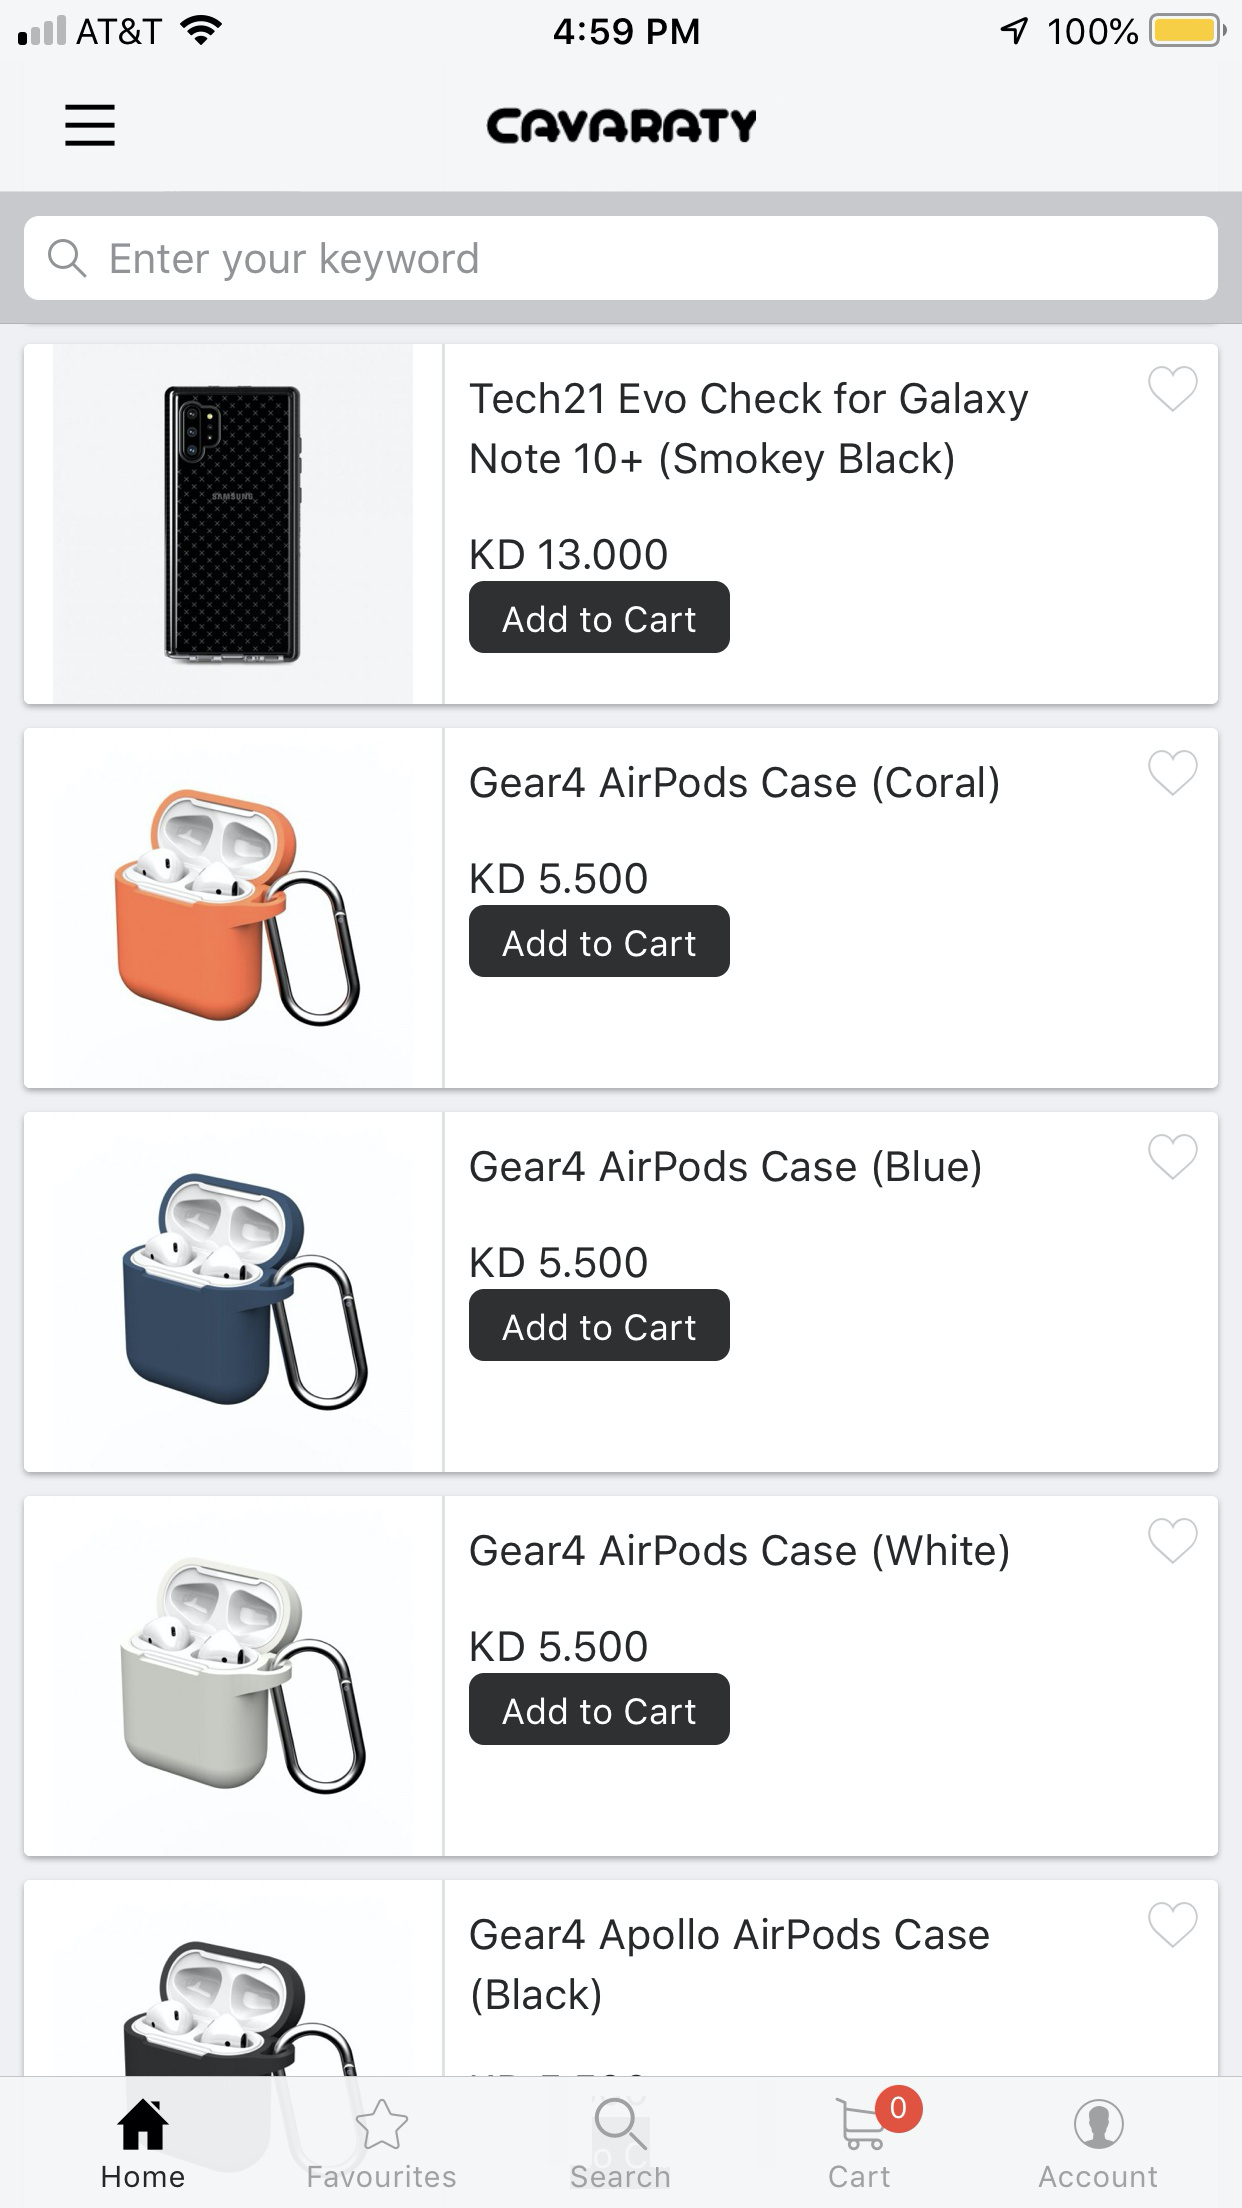EditText: (24, 217, 1219, 300)
Icon: (836, 2085, 924, 2150), (594, 2097, 648, 2150), (117, 2097, 170, 2150), (356, 2097, 409, 2149), (1074, 2097, 1124, 2149), (1146, 751, 1198, 798), (1146, 1134, 1198, 1181), (1146, 1518, 1198, 1565), (1148, 365, 1198, 412), (1148, 1902, 1198, 1949), (65, 105, 117, 149), (49, 240, 88, 279)
Image: (118, 1556, 369, 1796), (112, 789, 362, 1028), (121, 1172, 369, 1412), (164, 385, 303, 666), (123, 1941, 358, 2076)
Text: (470, 382, 1030, 482), (470, 1918, 990, 2017), (470, 764, 999, 805), (470, 1533, 1008, 1573), (470, 1149, 981, 1189), (112, 243, 479, 282), (485, 108, 757, 146), (472, 538, 667, 572), (472, 861, 649, 895), (472, 1630, 648, 1664), (472, 1247, 648, 1278), (309, 2164, 456, 2188), (1037, 2166, 1157, 2188), (572, 2166, 670, 2188), (103, 2166, 185, 2188), (830, 2166, 890, 2188)
TextButton: (469, 904, 731, 978), (469, 582, 731, 655), (469, 1289, 731, 1362), (469, 1673, 731, 1745)
UpperTaskBar: (2, 2, 1242, 49)
